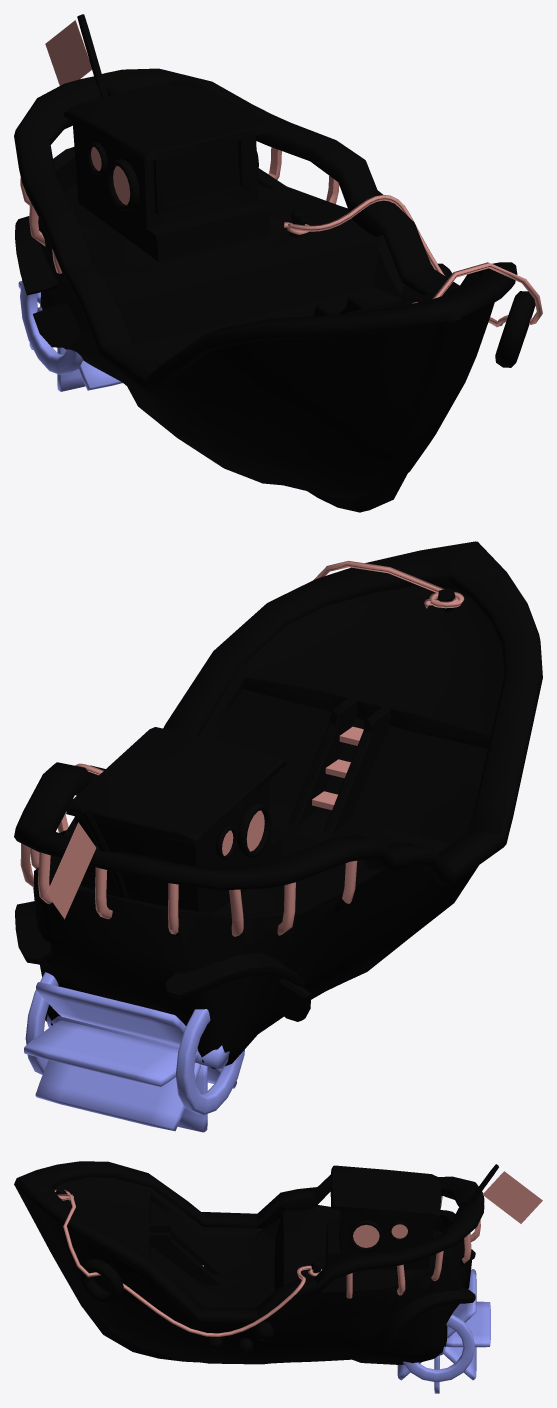
The model's file is Wheel_Boat_14_Lp.fbx.
3 renders of one model, top to bottom at view 1: azimuth 30°, elevation 25°; view 2: azimuth 150°, elevation 25°; view 3: azimuth 270°, elevation 25°, orthographic. The views are drawn at different scales.
Visible parts, largest first — view 1: Boat_UVs_Lp, Wheel_Lp; view 2: Boat_UVs_Lp, Wheel_Lp; view 3: Boat_UVs_Lp, Wheel_Lp.
Part boxes in pixels (box(x1,y1,x2,y2)): Boat_UVs_Lp: box(14, 14, 542, 512); Wheel_Lp: box(18, 280, 122, 391); Boat_UVs_Lp: box(14, 541, 542, 1068); Wheel_Lp: box(24, 972, 244, 1132); Boat_UVs_Lp: box(14, 1161, 542, 1364); Wheel_Lp: box(397, 1269, 490, 1393).
Size of the model in its own units: 117 by 103 by 235.
